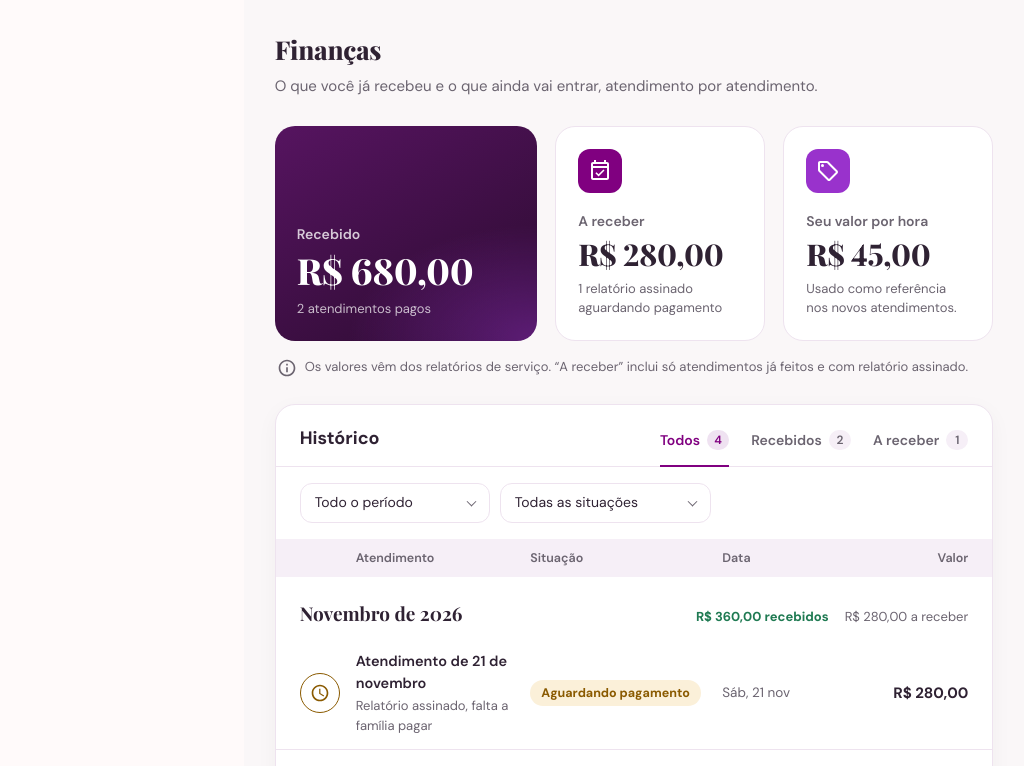
Test: Finanças do cuidador › filtra pelas abas Recebidos e A receber
This screenshot has width=1024, height=766.
Expected: the text "R$ 680,00" is shown, [297,251,473,291]
Step 1. Click the tab "Recebidos 2" → (801,446), box [751,426,851,466]
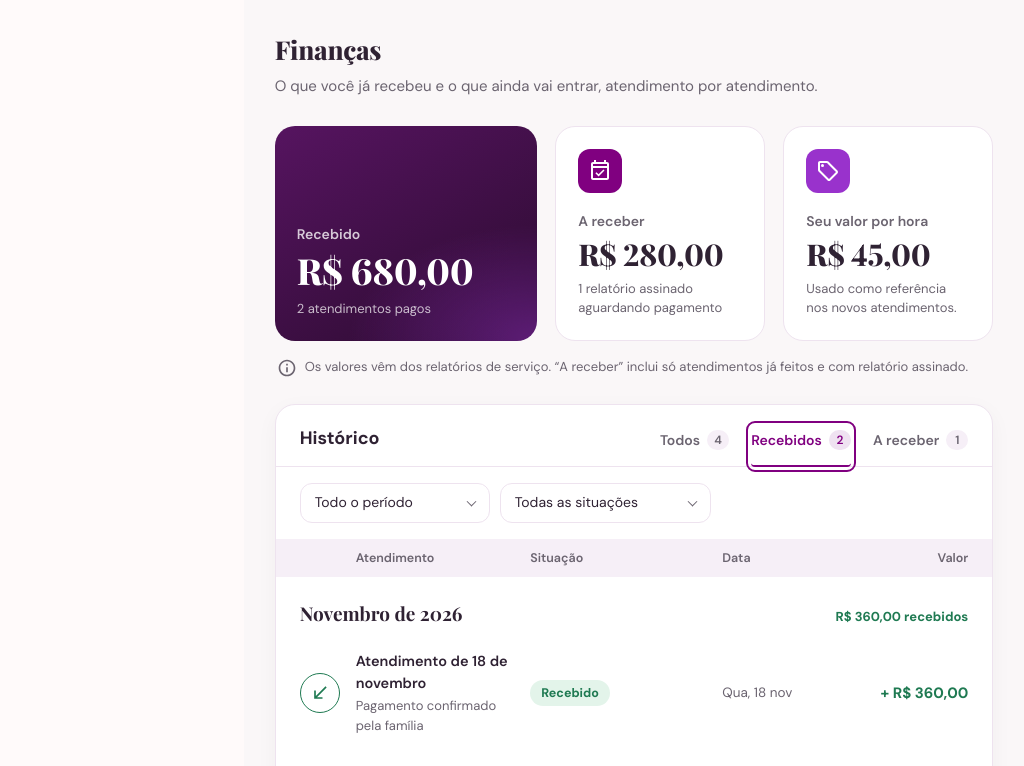
Expected: the list item shows "Recebido", [541,685,599,701]
Expected: the number of list items is 2
Step 2. Click the tab "A receber 1" → (921,446), box [873,426,968,466]
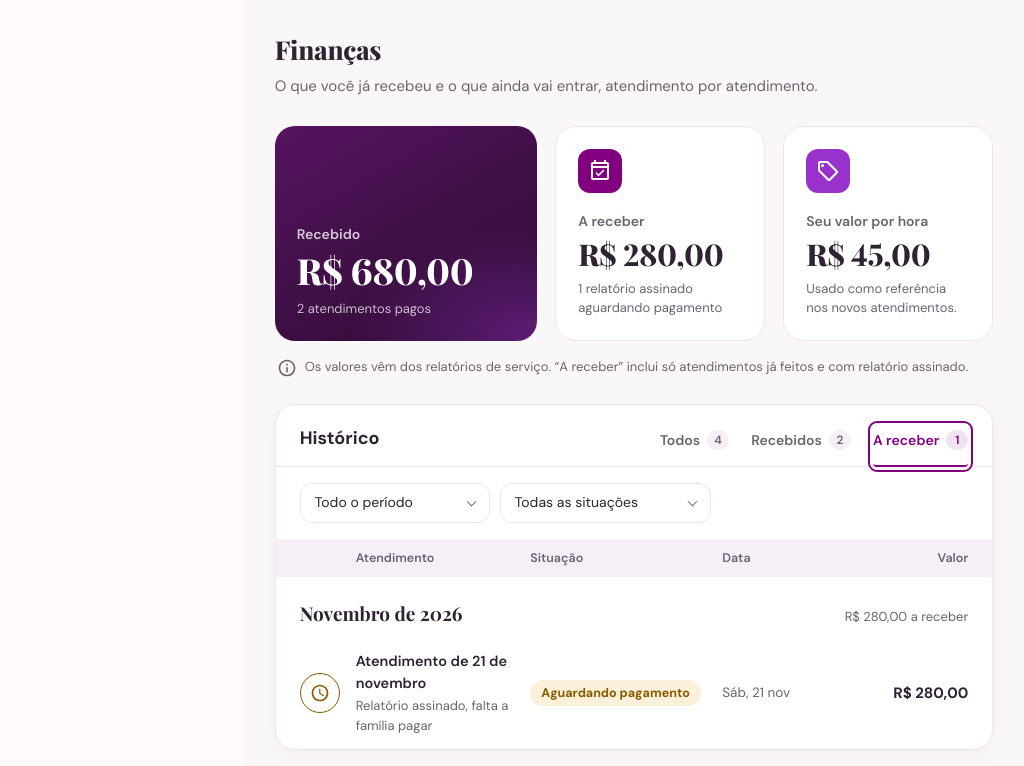
Expected: the number of list items is 1, [276,636,992,749]
Expected: the list item shows "Aguardando pagamento", [541,685,690,701]
